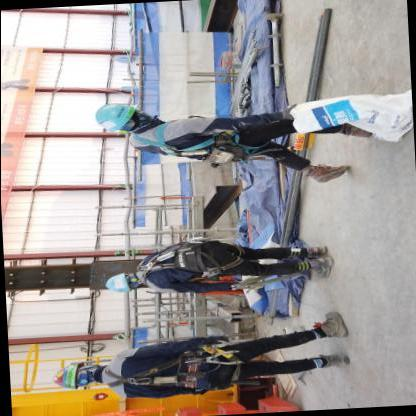Helmet: (95, 93, 140, 132), (104, 268, 136, 299), (56, 360, 90, 389)
safety-shoe: (310, 304, 356, 342), (303, 159, 354, 186), (312, 351, 358, 377), (302, 253, 339, 281)
